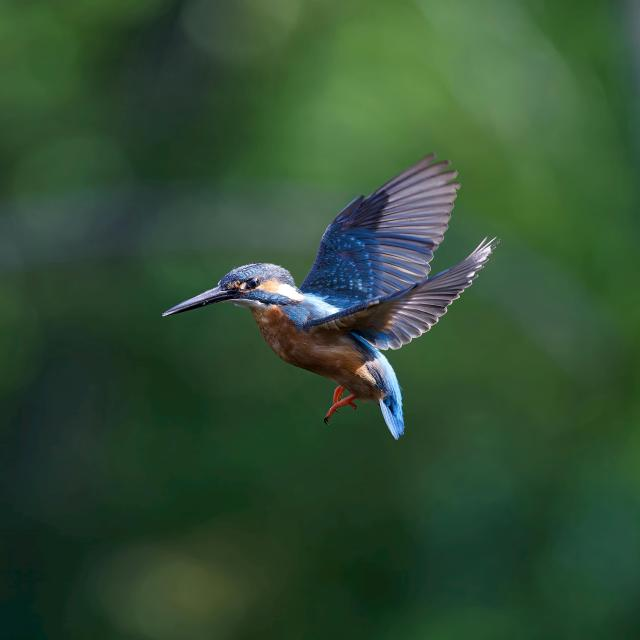kingfisher: (156, 152, 524, 444)
